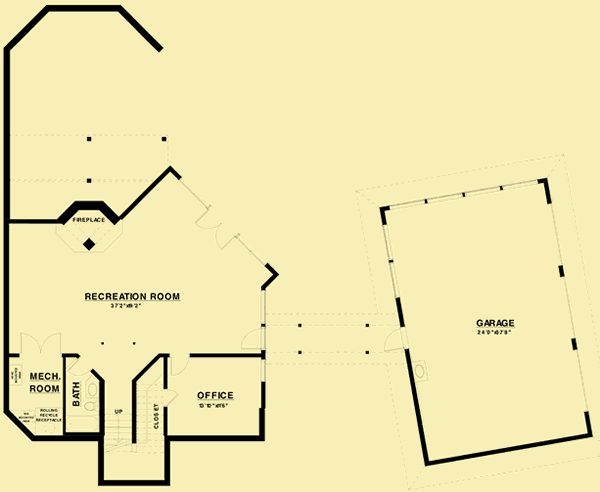door: (191, 207, 238, 252), (17, 329, 63, 357), (382, 327, 412, 352), (69, 355, 95, 381), (239, 325, 264, 351), (166, 352, 190, 378)
large sink: (82, 401, 101, 415)
small sink: (86, 379, 99, 400)
stairs: (102, 382, 168, 465)
windows: (388, 179, 546, 208), (382, 220, 402, 302)
